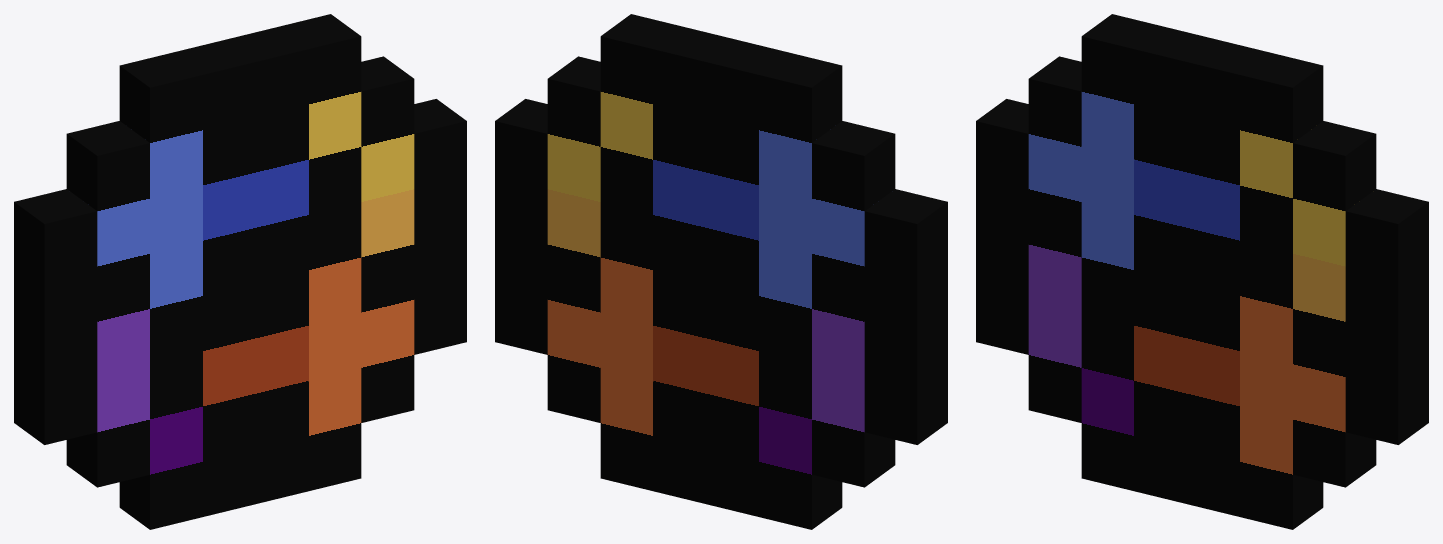
The model's file is Swap Orb.glb.
3 renders of one model, left to right at view 1: azimuth 30°, elevation 25°; view 2: azimuth 150°, elevation 25°; view 3: azimuth 330°, elevation 25°, orthographic.
Visible parts, largest first — view 1: swap_orb; view 2: swap_orb; view 3: swap_orb.
Boxes of the visible parts, bbox=[...] form: swap_orb: bbox=[14, 14, 466, 529]; swap_orb: bbox=[495, 14, 947, 529]; swap_orb: bbox=[976, 14, 1428, 529].
Bounding box in the file's own units: 8 × 8 × 1.
Materials: 1 (1 with a texture image).
